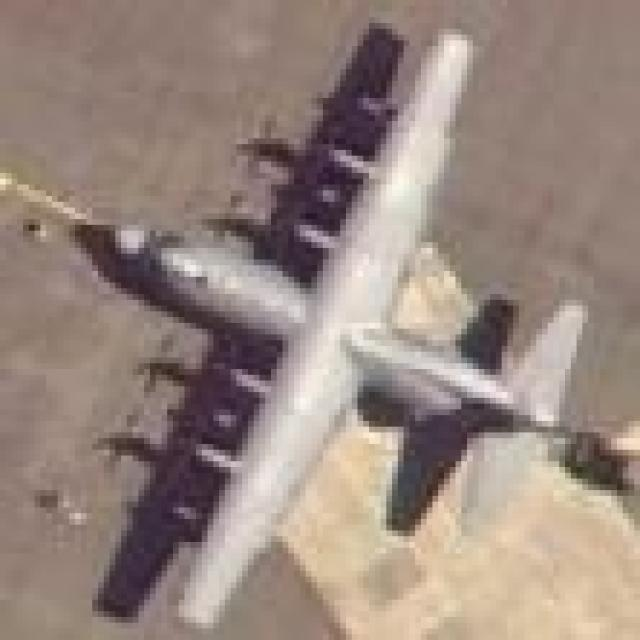C-130_TopDown: (56, 26, 594, 629)
